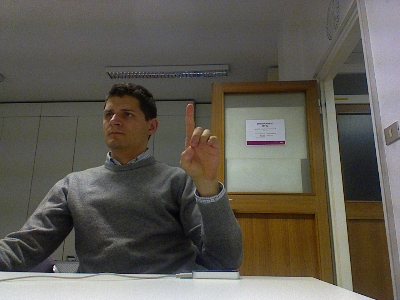食指: (177, 101, 220, 183)
